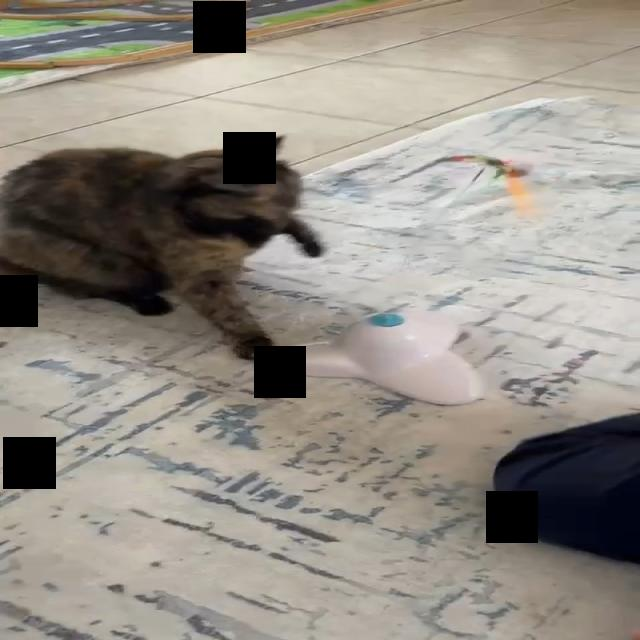authorized: (0, 134, 324, 361)
